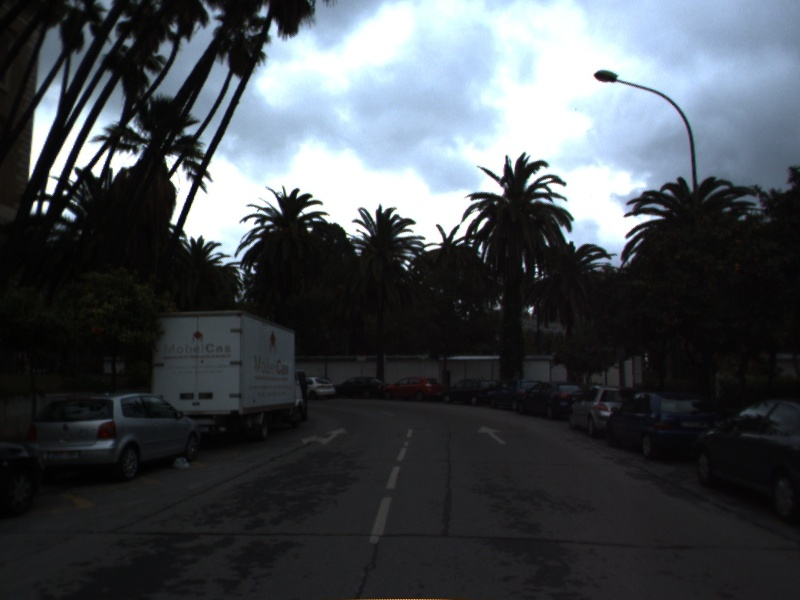STRAIGHT: (475, 423, 508, 446)
STRAIGHT_LEFT: (300, 425, 351, 447)
